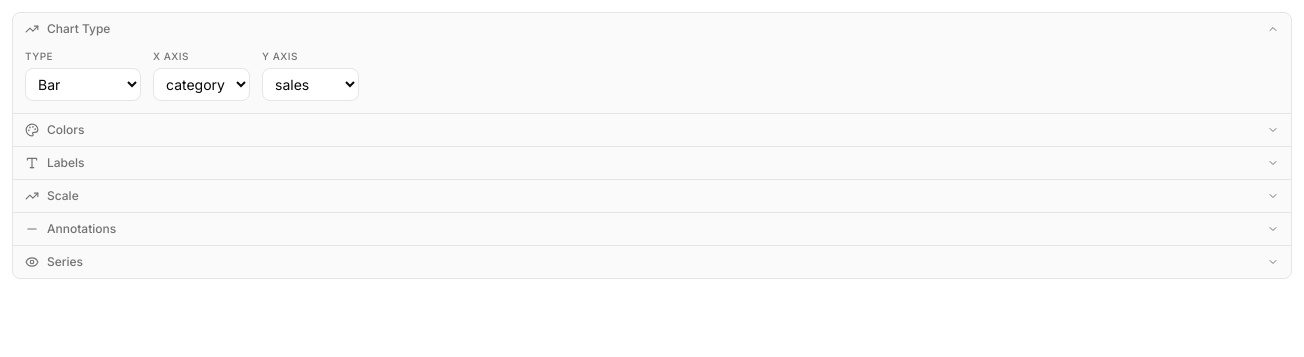
Test: ChartEditor › Scale control › shows linear/log toggle for X and Y axes
Click the button with test id "section-toggle-scale" at x=63, y=196, box [13,180,1291,212]
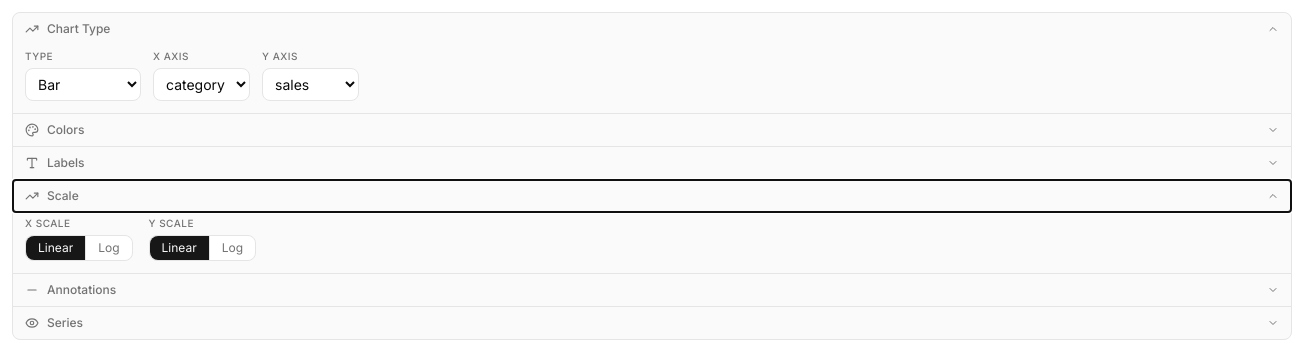
Expected: the button with test id "x-scale-linear" is shown, [26,236,85,260]
Expected: the button with test id "x-scale-log" is shown, [85,236,132,260]
Expected: the button with test id "y-scale-linear" is shown, [150,236,209,260]
